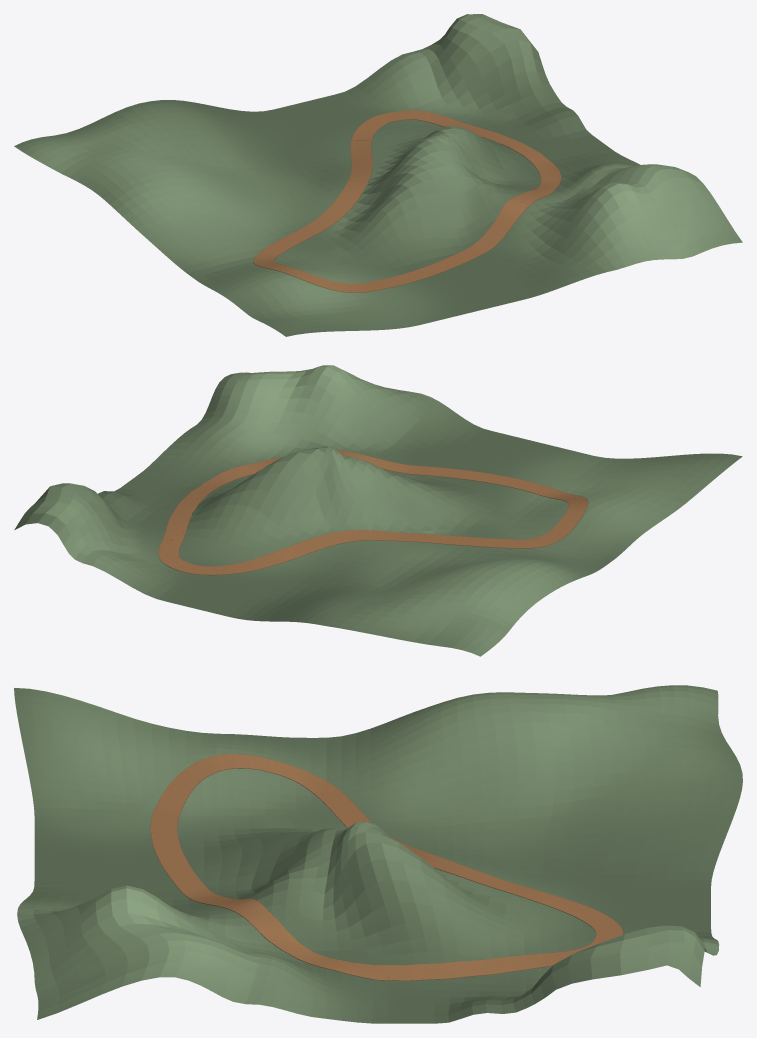
The model's file is dirt_track_w_terrain_01.glb.
The picture shows the model from 3 angles, top to bottom: view 1: azimuth 30°, elevation 25°; view 2: azimuth 150°, elevation 25°; view 3: azimuth 270°, elevation 25°; orthographic projection. The views are drawn at different scales.
Parts seen in each view (by area): view 1: terrain, Cube; view 2: terrain, Cube; view 3: terrain, Cube.
Boxes of the visible parts, left/top/right/bottom form: terrain: left=14, top=14, right=742, bottom=336; Cube: left=253, top=110, right=561, bottom=292; terrain: left=14, top=365, right=742, bottom=656; Cube: left=158, top=450, right=588, bottom=575; terrain: left=14, top=685, right=742, bottom=1023; Cube: left=150, top=754, right=623, bottom=980.
Bounding box in the file's own units: 162 × 20.41 × 162.
2 materials, 2 textured.
